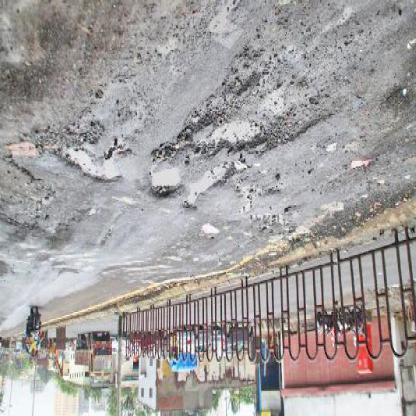pothole: (177, 94, 333, 158), (58, 146, 125, 186), (183, 166, 232, 215), (148, 166, 184, 202), (252, 213, 291, 231), (7, 144, 41, 163), (203, 223, 221, 241)
